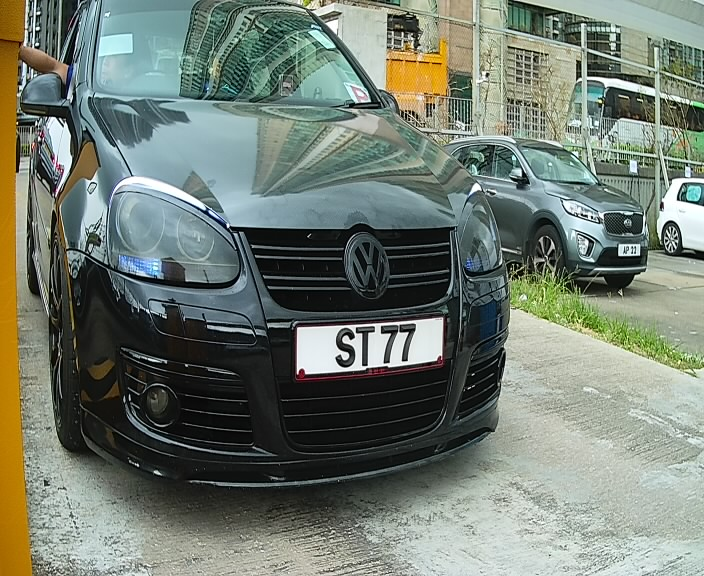Car: (8, 2, 529, 490)
License Plate: (288, 309, 459, 382)
